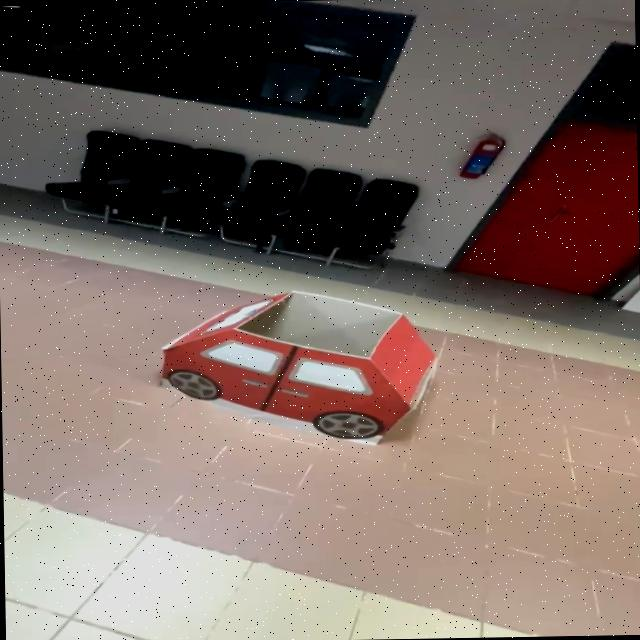red_car: (123, 265, 471, 469)
